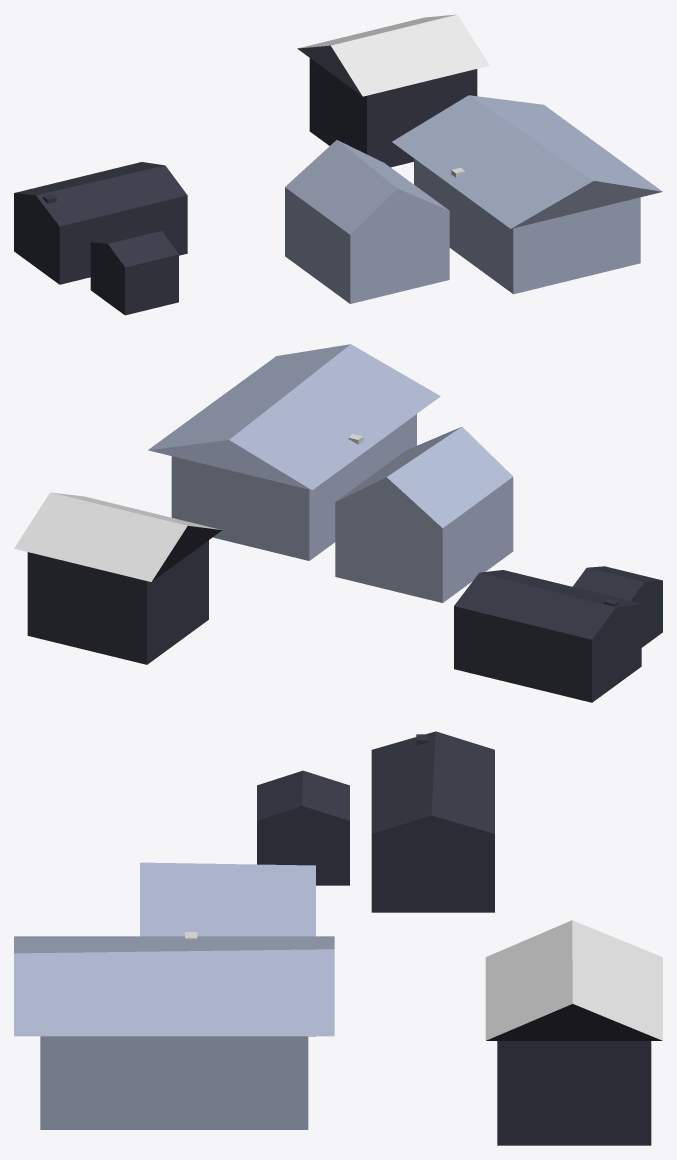
Rendered from village.glb.
3 renders of one model, top to bottom at view 1: azimuth 30°, elevation 25°; view 2: azimuth 150°, elevation 25°; view 3: azimuth 270°, elevation 25°, orthographic. The views are drawn at different scales.
Parts seen in each view (by area): view 1: Cube.025, Cube.022, Cube.024, Cube.023, Cube.026; view 2: Cube.025, Cube.024, Cube.022, Cube.023, Cube.026; view 3: Cube.025, Cube.024, Cube.023, Cube.022, Cube.026.
Boxes of the visible parts, box(x1,y1,x2,y2) form: Cube.025: box(392, 95, 662, 294); Cube.022: box(285, 140, 449, 303); Cube.024: box(297, 14, 489, 167); Cube.023: box(14, 162, 187, 284); Cube.026: box(90, 229, 178, 315); Cube.025: box(148, 344, 440, 560); Cube.024: box(14, 492, 222, 664); Cube.022: box(335, 427, 513, 602); Cube.023: box(454, 570, 641, 702); Cube.026: box(572, 566, 662, 647); Cube.025: box(14, 936, 334, 1129); Cube.024: box(485, 920, 662, 1145); Cube.023: box(371, 731, 494, 912); Cube.022: box(140, 862, 315, 1036); Cube.026: box(257, 770, 349, 885).
Bounding box in the file's own units: 11.96 × 2.71 × 10.56.
